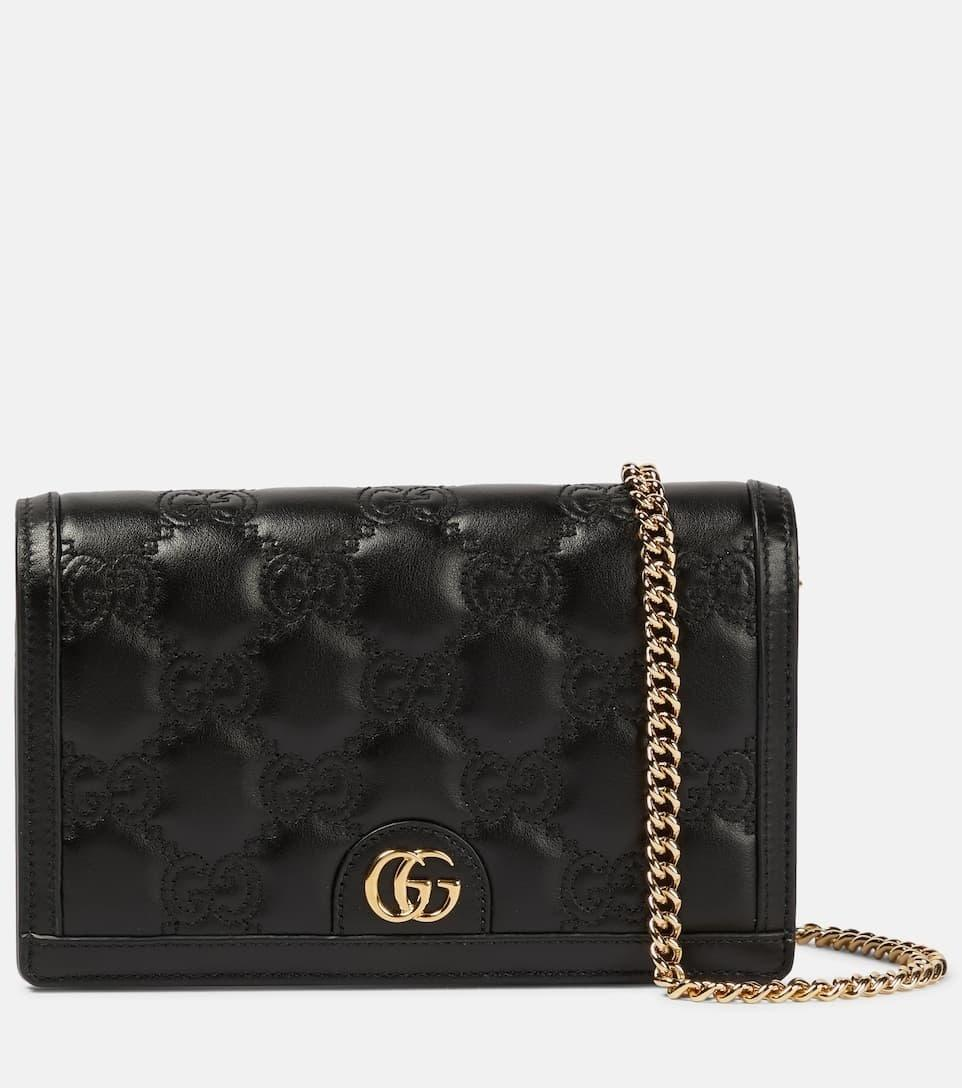GUCCI: (364, 848, 460, 923)
